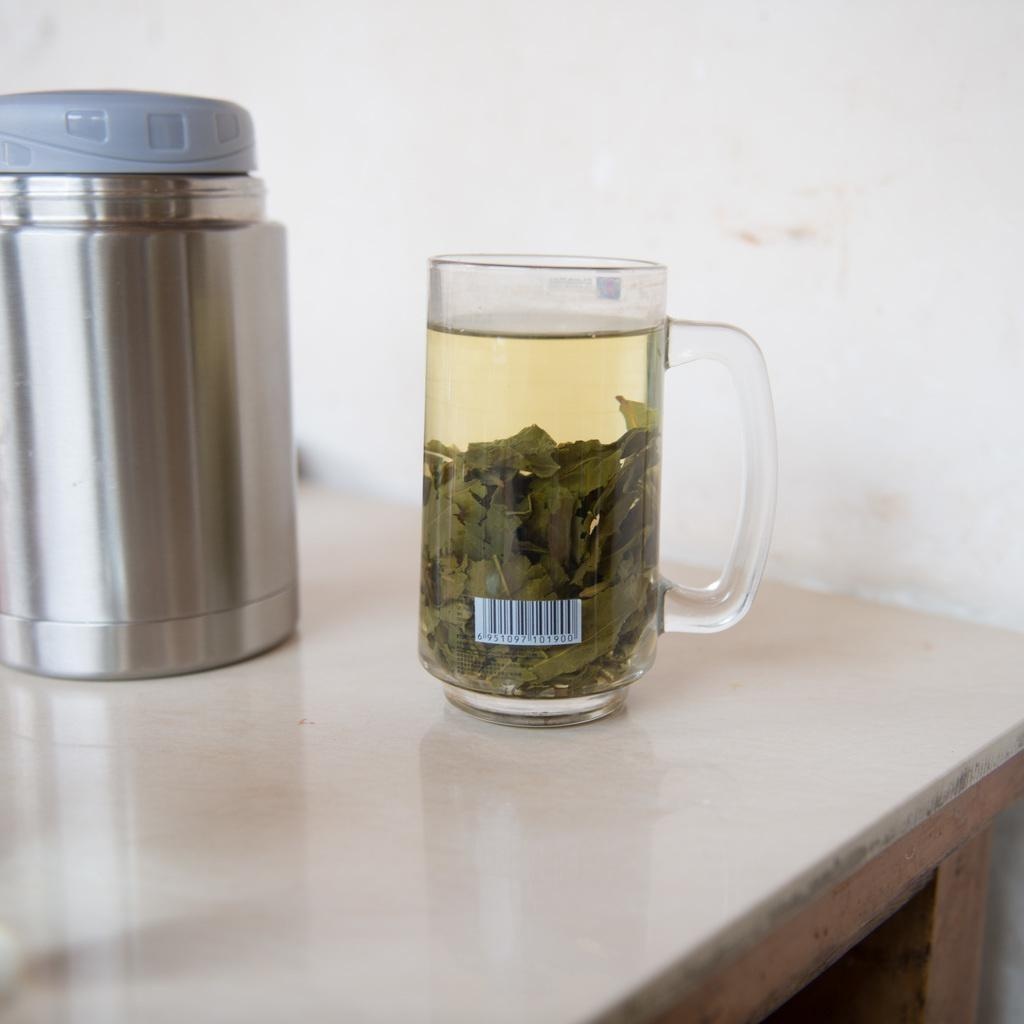glass-mug: (413, 250, 774, 726)
